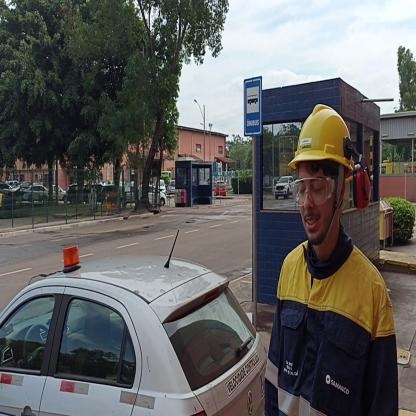C_eletrica: (270, 242, 391, 413)
Capacete: (292, 100, 354, 164)
